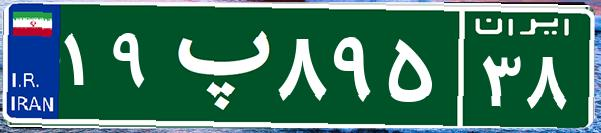1: (57, 26, 110, 107)
3: (475, 38, 525, 113)
5: (385, 28, 445, 110)
8: (273, 28, 330, 110), (525, 38, 570, 115)
9: (330, 28, 385, 110), (110, 28, 158, 105)
پ: (158, 15, 273, 115)
